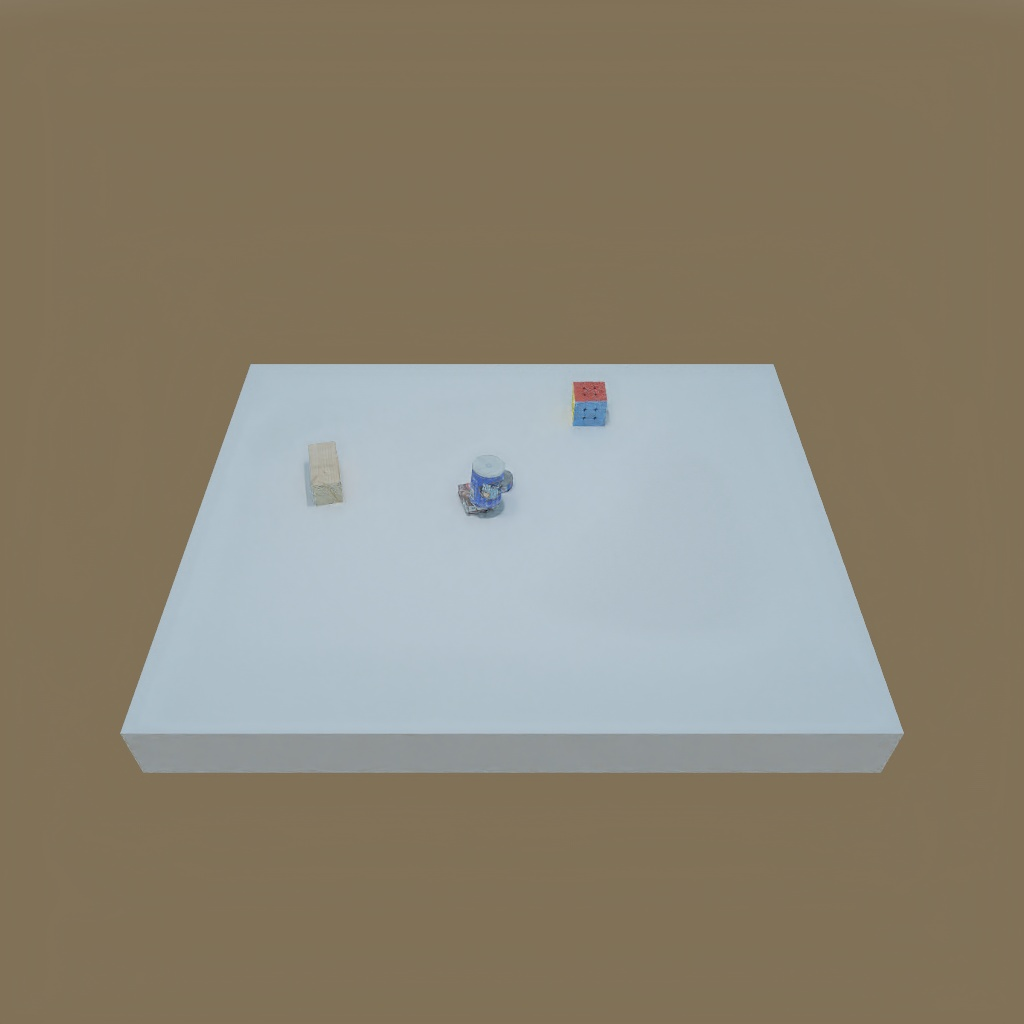master_chef_can: (464, 453, 508, 518)
pudding_box: (457, 475, 500, 520)
rubiks_cube: (569, 377, 610, 430)
wood_block: (304, 440, 347, 506)
